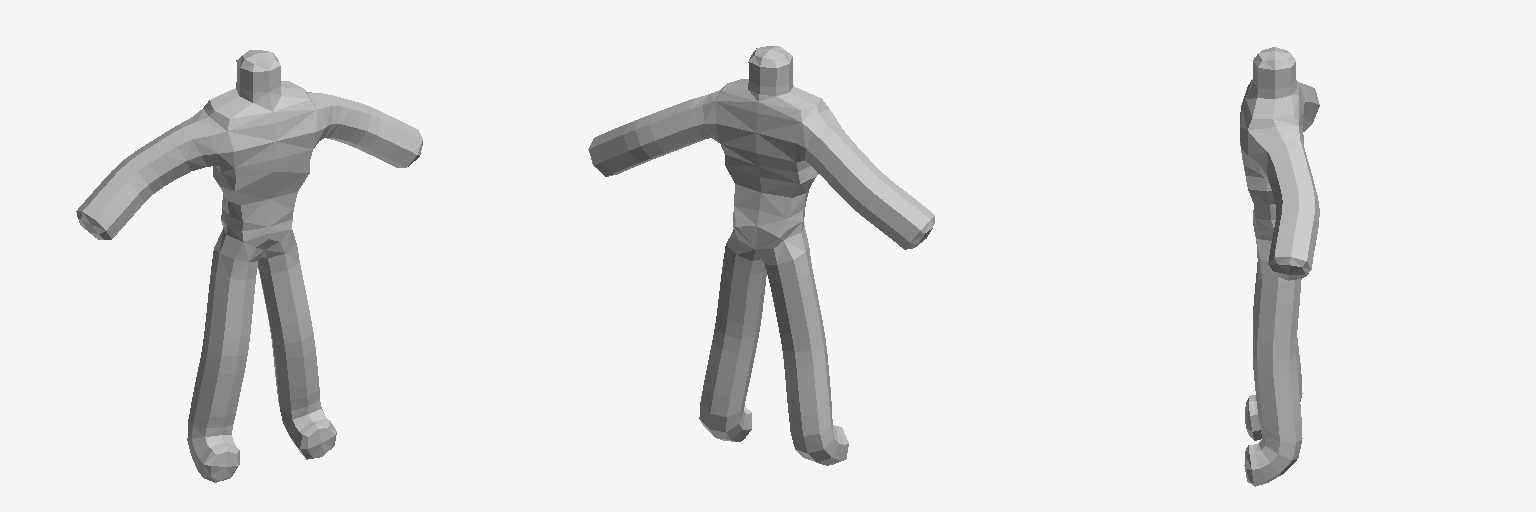
Rendered from AssaultModel.obj.
3 views of the same model, side by side, from view 1: azimuth 30°, elevation 25°; view 2: azimuth 150°, elevation 25°; view 3: azimuth 270°, elevation 25° (orthographic).
Visible parts, largest first — view 1: metarig_object_metarig_mesh; view 2: metarig_object_metarig_mesh; view 3: metarig_object_metarig_mesh.
Boxes of the visible parts, <box> form: metarig_object_metarig_mesh: <box>76,50,422,482</box>; metarig_object_metarig_mesh: <box>588,46,934,465</box>; metarig_object_metarig_mesh: <box>1240,47,1319,486</box>.
Size of the model in its own units: 1.78 by 2.05 by 0.361.